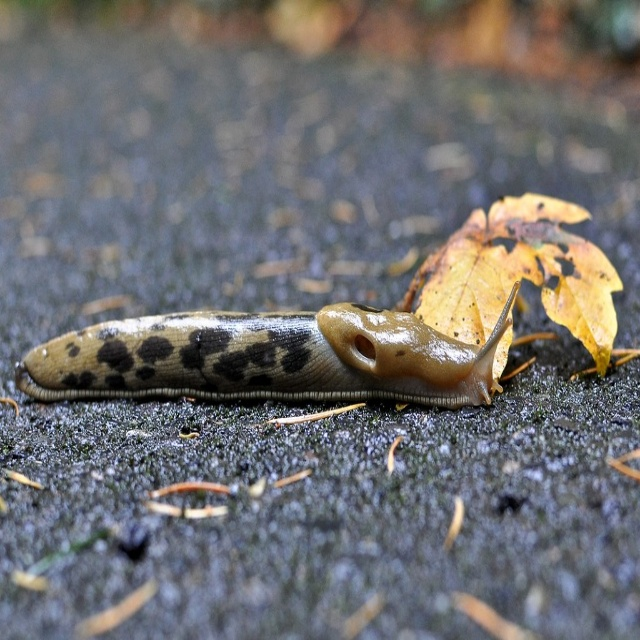Snail: (16, 274, 522, 397)
